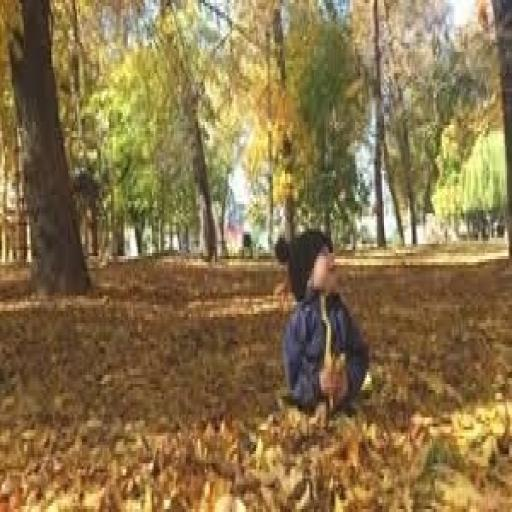sitting: (271, 222, 374, 418)
